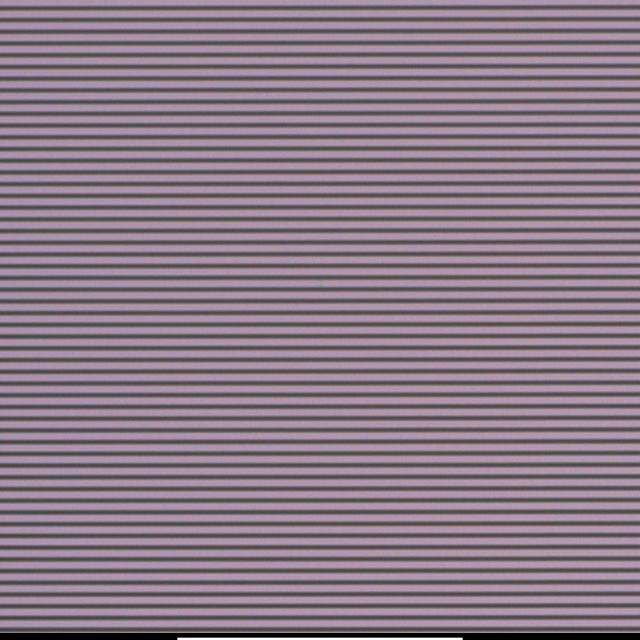nonvisual: (313, 276, 329, 292)
